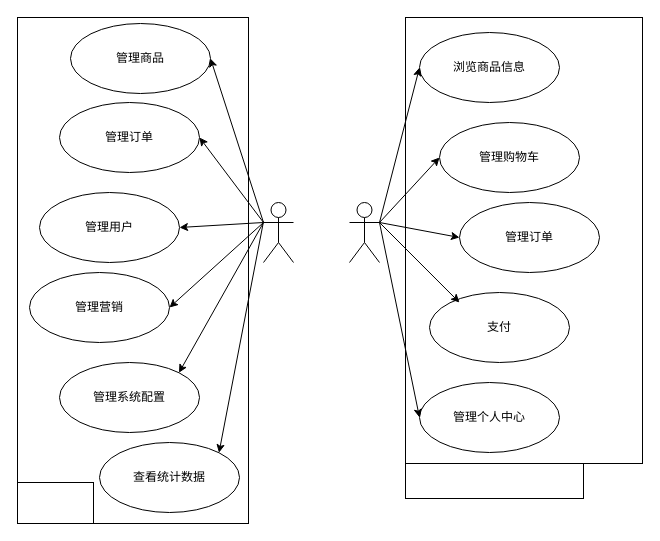
The diagram is 660 pixels wide and 541 high, and some of its shapes have lost their labels. The shapes that lost their labels are listed below. From the top down, each one's centre as x and y in pixels, then its label:
At (278,232): "系统管理员".
At (364,232): "普通用户".
At (494,480): "手机web/weixin端".
At (55,503): "后台管理系统".
